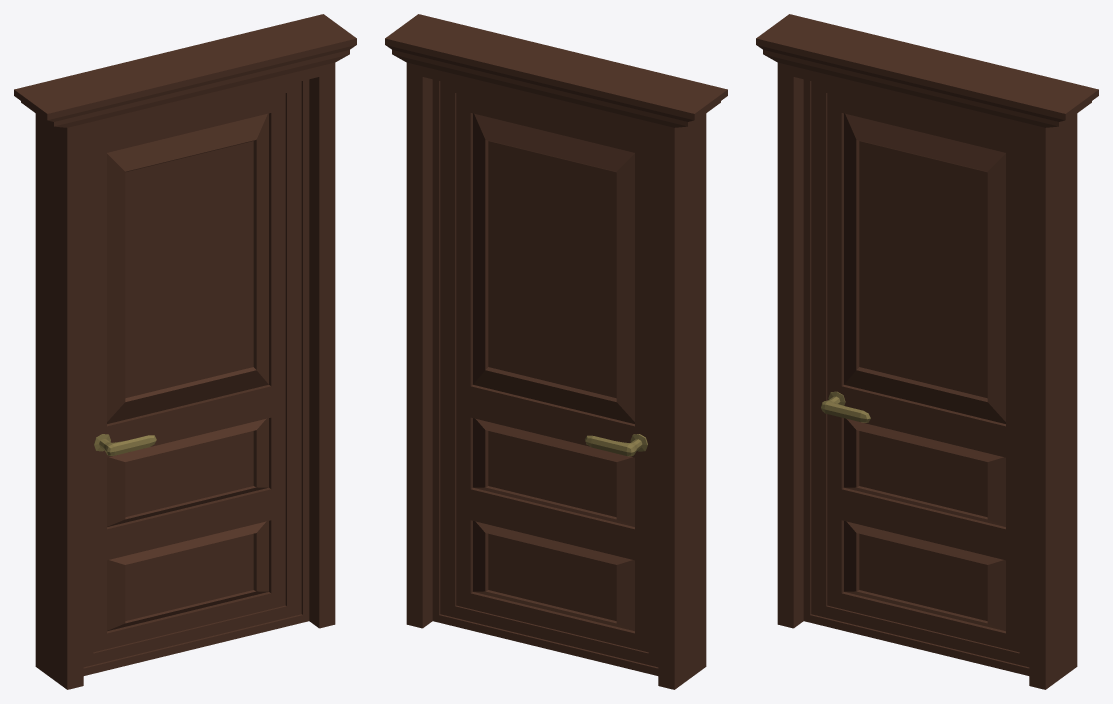
The model's file is Door3.gltf.
3 renders of one model, left to right at view 1: azimuth 30°, elevation 25°; view 2: azimuth 150°, elevation 25°; view 3: azimuth 330°, elevation 25°, orthographic.
Parts seen in each view (by area): view 1: Door, DoorFrame, DoorHandle; view 2: Door, DoorFrame, DoorHandle; view 3: Door, DoorFrame, DoorHandle.
Boxes of the visible parts, box(x1,y1,x2,y2) form: Door: box(83, 79, 309, 675); DoorFrame: box(14, 14, 356, 689); DoorHandle: box(94, 434, 156, 455); Door: box(432, 79, 658, 675); DoorFrame: box(385, 14, 727, 689); DoorHandle: box(585, 434, 647, 456); Door: box(803, 79, 1029, 675); DoorFrame: box(756, 14, 1098, 689); DoorHandle: box(821, 391, 870, 422).
Bounding box in the file's own units: 1.75 × 3.14 × 0.3272.
